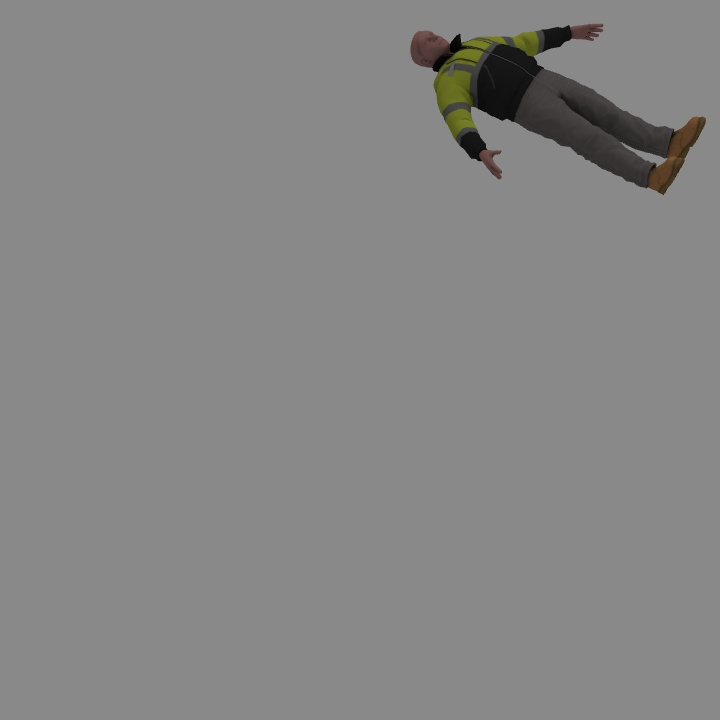victim: (413, 28, 701, 189)
